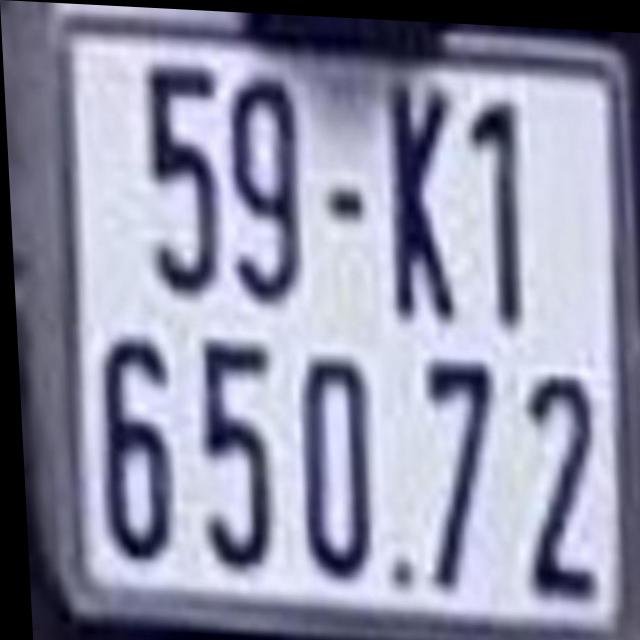0: (294, 360, 371, 578)
1: (467, 87, 546, 325)
2: (515, 366, 595, 600)
5: (196, 333, 277, 576), (141, 61, 225, 291)
6: (94, 328, 179, 567)
7: (420, 355, 498, 595)
9: (227, 70, 311, 312)
K: (378, 74, 462, 326)
